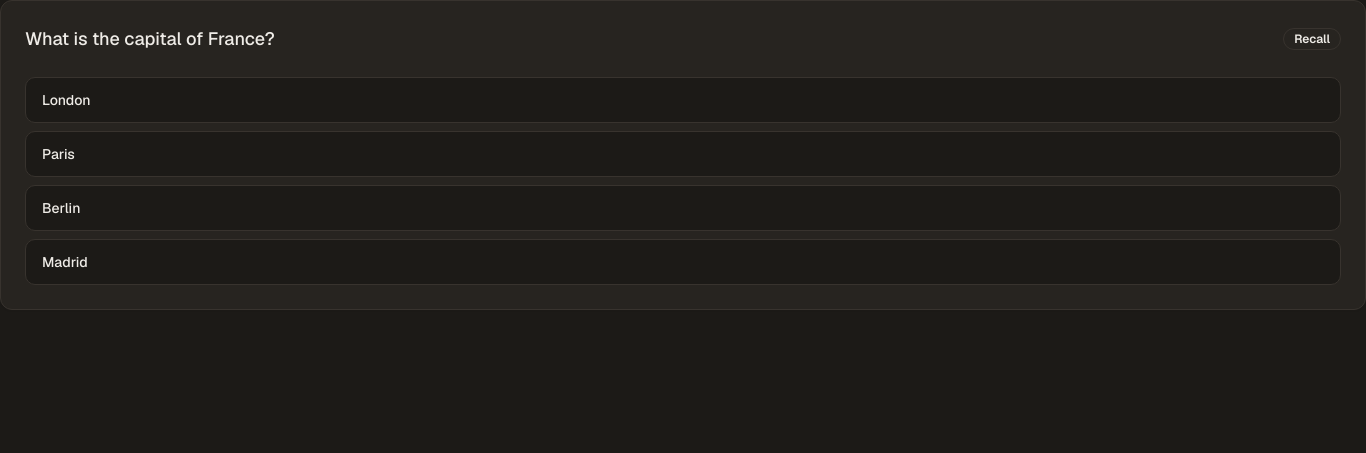
Test case: QuizCard › shows incorrect feedback for multiple-choice after selecting wrong answer
Click the button "London": (66, 100) left=25, top=77, right=1341, bottom=123
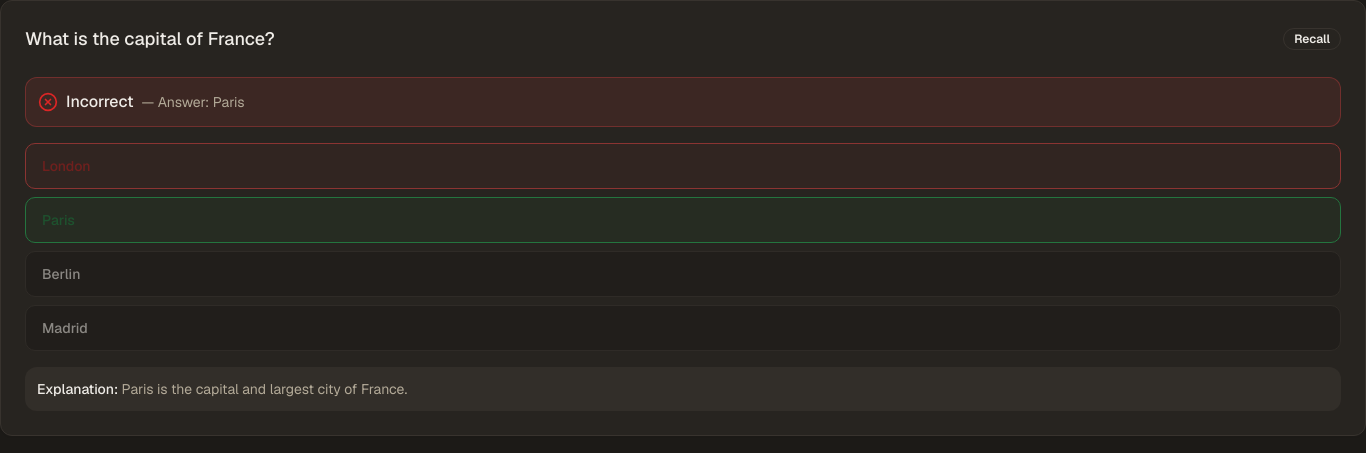
Now the text "Incorrect" is shown, box left=66, top=90, right=134, bottom=114
Now the text "— Answer: Paris" is shown, box left=142, top=92, right=245, bottom=112
